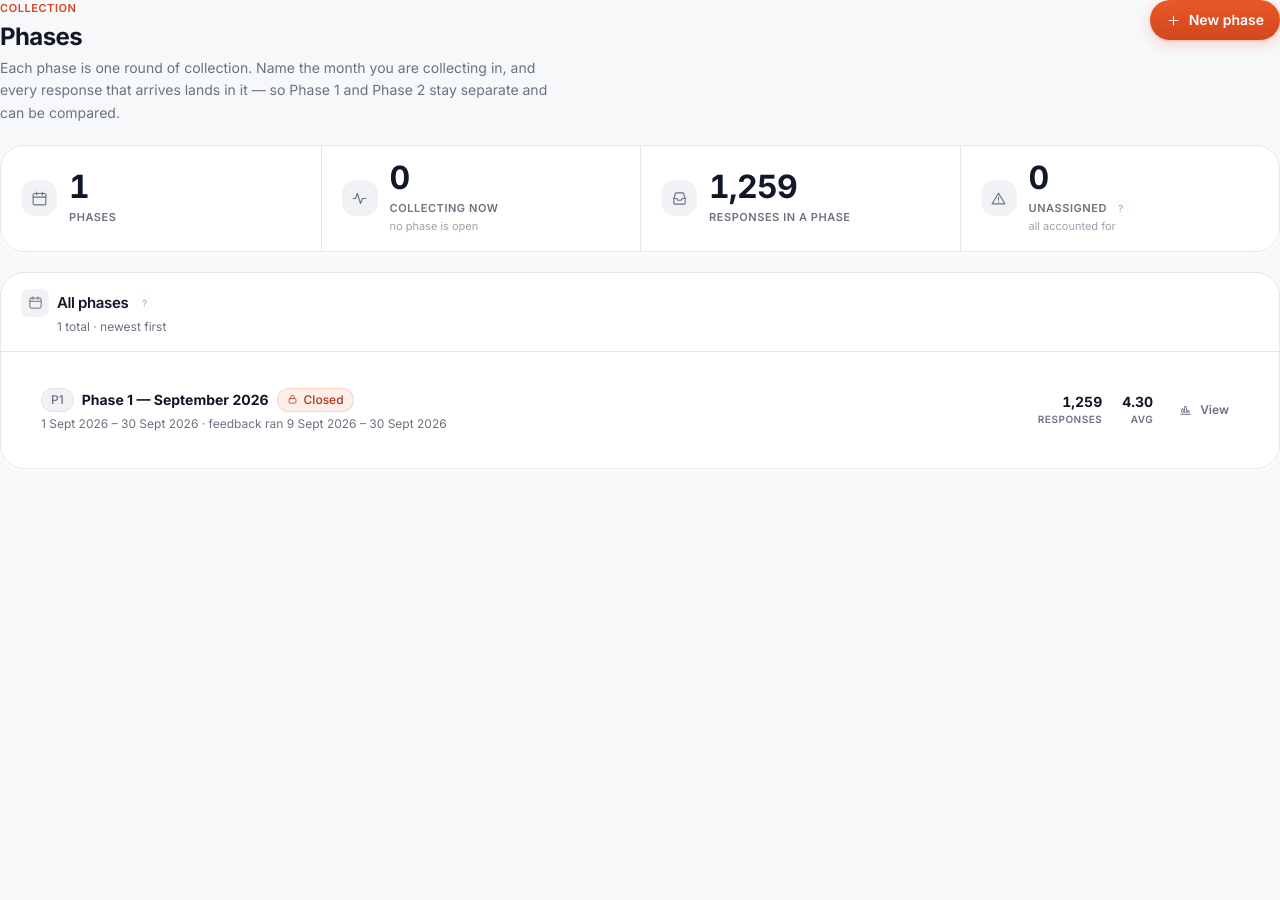
Test: creating a phase › picking a month fills the whole month
Click the button "New phase".
click(1215, 20)  # box x1=1150 y1=0 x2=1279 y2=40
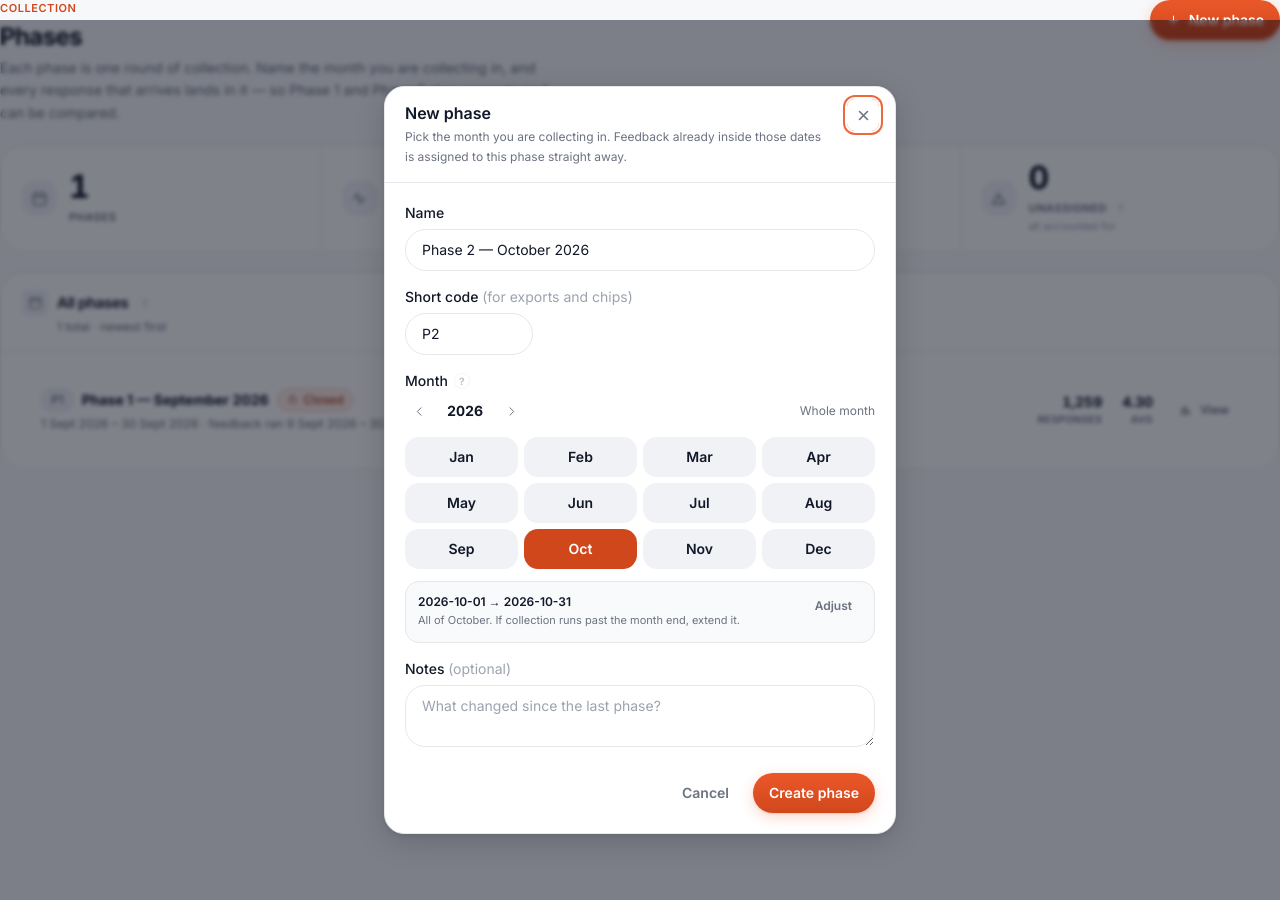
Click the button "Nov".
click(700, 549)  # box x1=643 y1=529 x2=756 y2=569
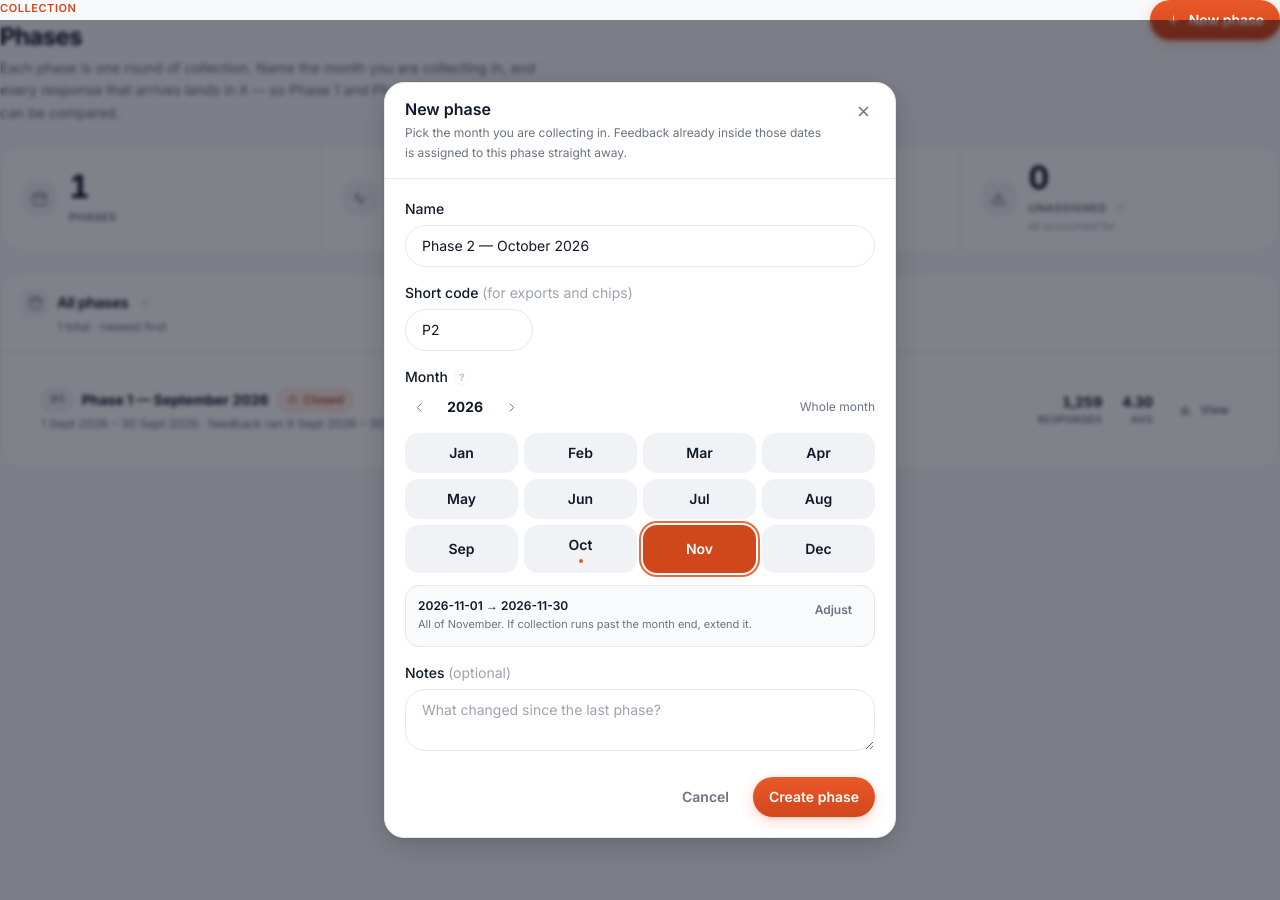
expect the text "Whole month" is shown: met, box x1=800 y1=399 x2=875 y2=415
expect the text "2026-11-01 → 2026-11-30" is shown: met, box x1=418 y1=598 x2=568 y2=613
